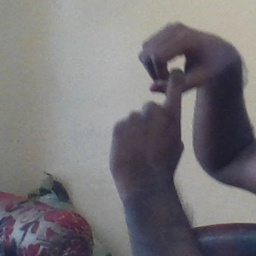Q: (105, 19, 228, 175)
